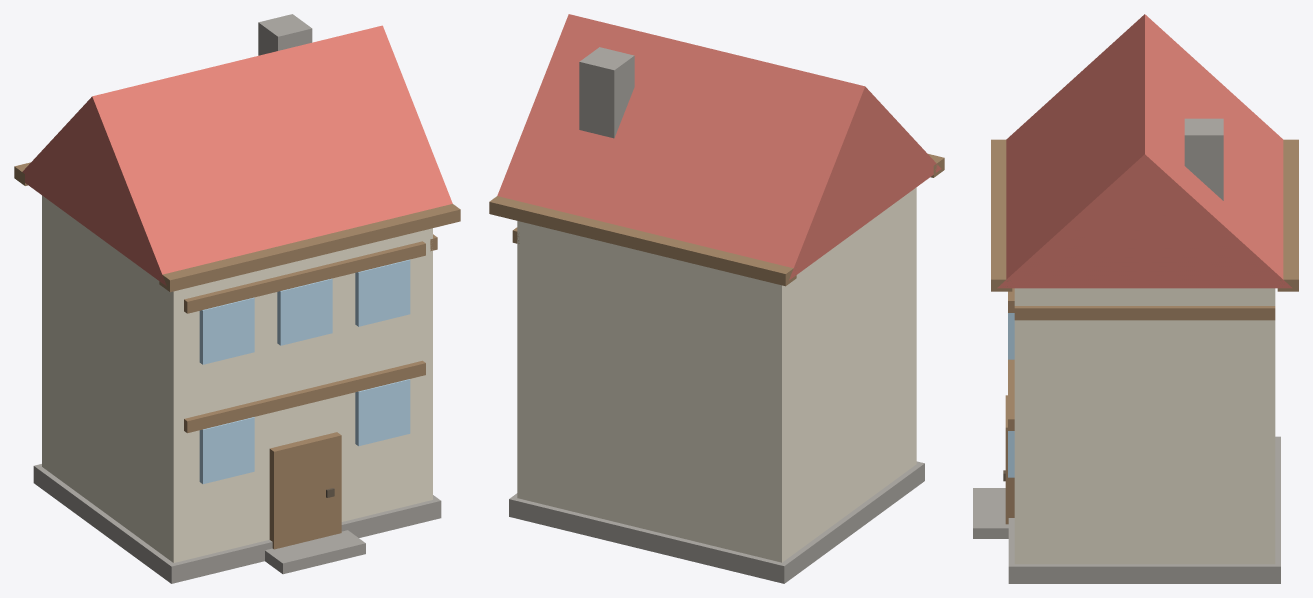
File: house_lv2.glb
The picture shows the model from 3 angles, left to right: view 1: azimuth 30°, elevation 25°; view 2: azimuth 150°, elevation 25°; view 3: azimuth 270°, elevation 25°; orthographic projection. The views are drawn at different scales.
Visible parts, largest first — view 1: house_lv2; view 2: house_lv2; view 3: house_lv2.
Part boxes in pixels (x1,y1,x2,y2): house_lv2: (14, 14, 460, 583); house_lv2: (489, 14, 944, 583); house_lv2: (973, 14, 1298, 583).
Size of the model in its own units: 5.6 by 8.1 by 5.5.
